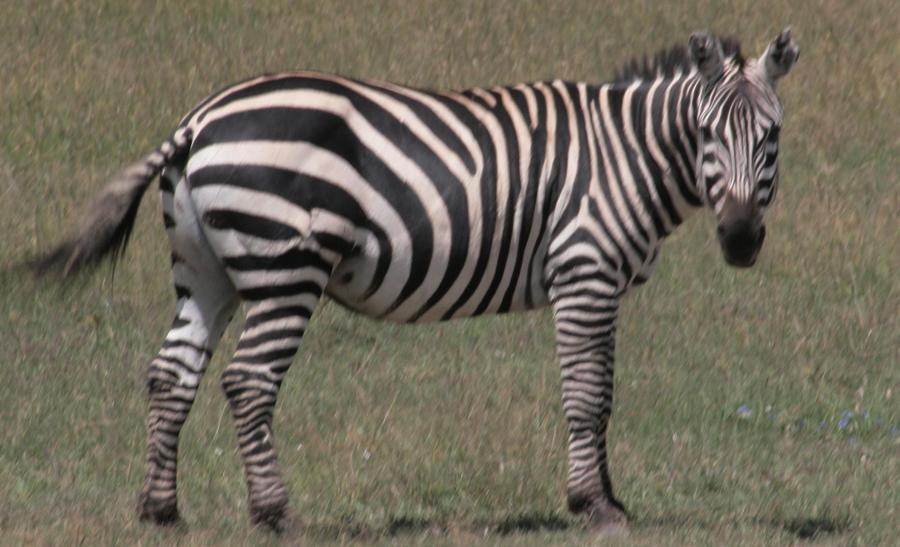zebra_plains: (225, 60, 653, 338)
